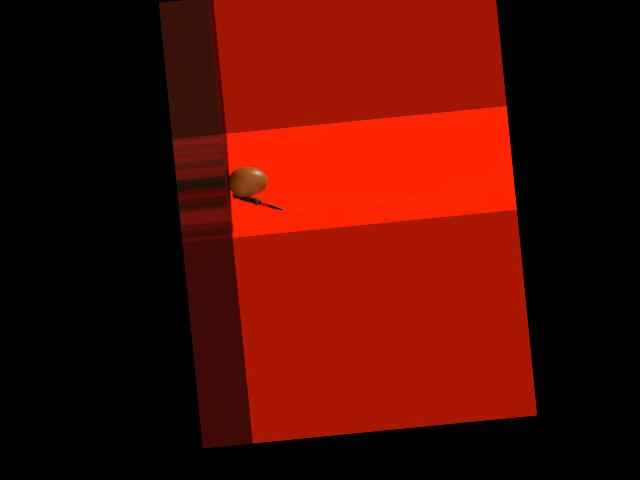egg: (227, 165, 268, 198)
